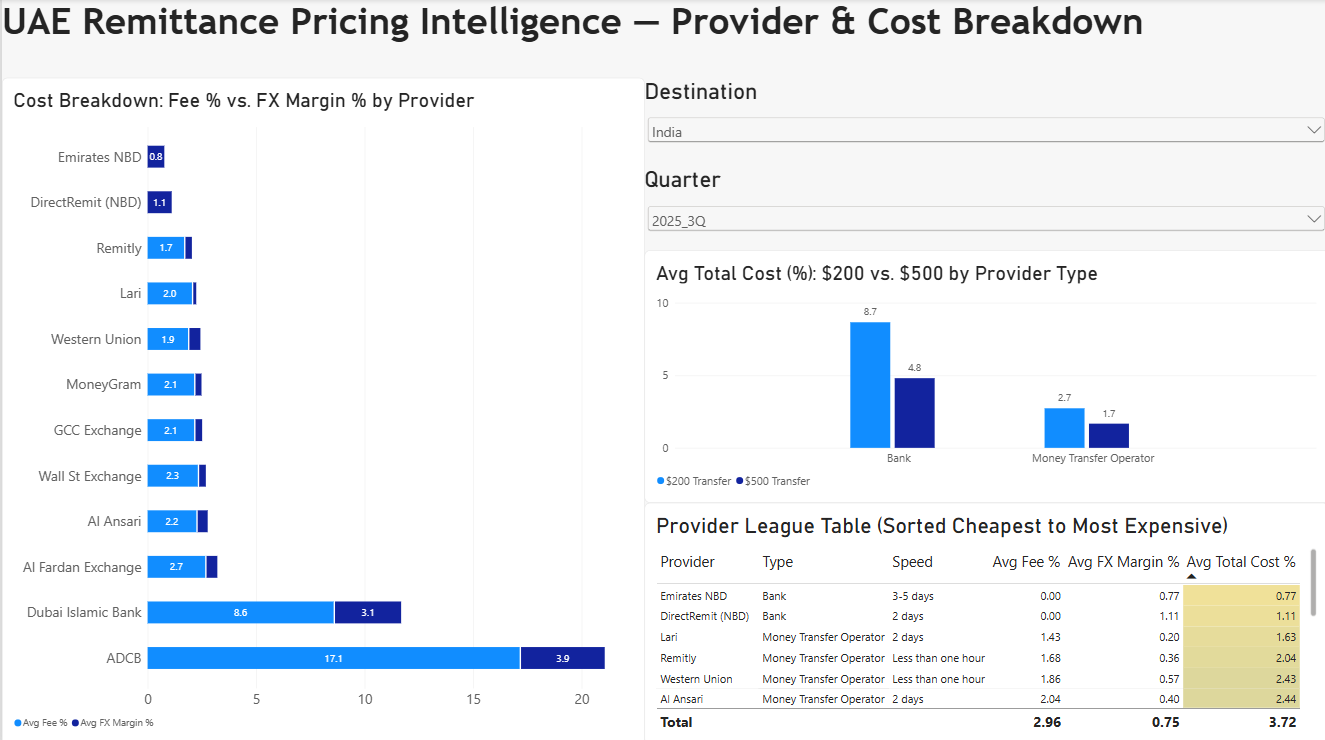

This screenshot's page, from the dashboard's own definition file:
{"tool":"powerbi","page":{"name":"Provider & Cost Breakdown","canvas":[1920,1080],"ordinal":1},"visuals":[{"type":"textbox","box":[0,0,1920.4,113.2],"z":0},{"type":"slicer","title":"Destination","fields":{"Values":["Dataset (from Q2 2016).destination_name"]},"box":[930.2,113.7,990.2,128.2],"z":1000},{"type":"slicer","title":"Quarter","fields":{"Values":["Dataset (from Q2 2016).period"]},"box":[930.2,241.9,990.2,122],"z":2000},{"type":"barChart","title":"Cost Breakdown: Fee % vs. FX Margin % by Provider","fields":{"Category":["Dataset (from Q2 2016).firm"],"Y":["Dataset (from Q2 2016).Avg Fee %","Dataset (from Q2 2016).Avg FX Margin %"]},"box":[0,113.7,930.2,965.4],"z":3000},{"type":"clusteredColumnChart","title":"Avg Total Cost (%): $200 vs. $500 by Provider Type","fields":{"Category":["Dataset (from Q2 2016).firm_type"],"Y":["Dataset (from Q2 2016).Avg Total Cost %","Dataset (from Q2 2016).Avg Total Cost % ($500)"]},"box":[930.2,363.8,990.2,365.9],"z":4000},{"type":"tableEx","title":"Provider League Table (Sorted Cheapest to Most Expensive)","fields":{"Values":["Dataset (from Q2 2016).firm","Dataset (from Q2 2016).firm_type","Dataset (from Q2 2016).speed actual","Dataset (from Q2 2016).Avg Fee %","Dataset (from Q2 2016).Avg FX Margin %","Dataset (from Q2 2016).Avg Total Cost %"]},"box":[930.2,729.7,990.2,349.4],"z":5000}]}

Visuals, with their boxes in screenshot pixels (x1, y1, x2, y2), scaled from the page's 1920x1080 canvas onto the 1325x740 screenshot:
textbox: crop(0, 0, 1324, 78)
"Destination" slicer: crop(642, 78, 1324, 166)
"Quarter" slicer: crop(642, 166, 1324, 249)
"Cost Breakdown: Fee % vs. FX Margin % by Provider" barChart: crop(0, 78, 642, 739)
"Avg Total Cost (%): $200 vs. $500 by Provider Type" clusteredColumnChart: crop(642, 249, 1324, 500)
"Provider League Table (Sorted Cheapest to Most Expensive)" tableEx: crop(642, 500, 1324, 739)
